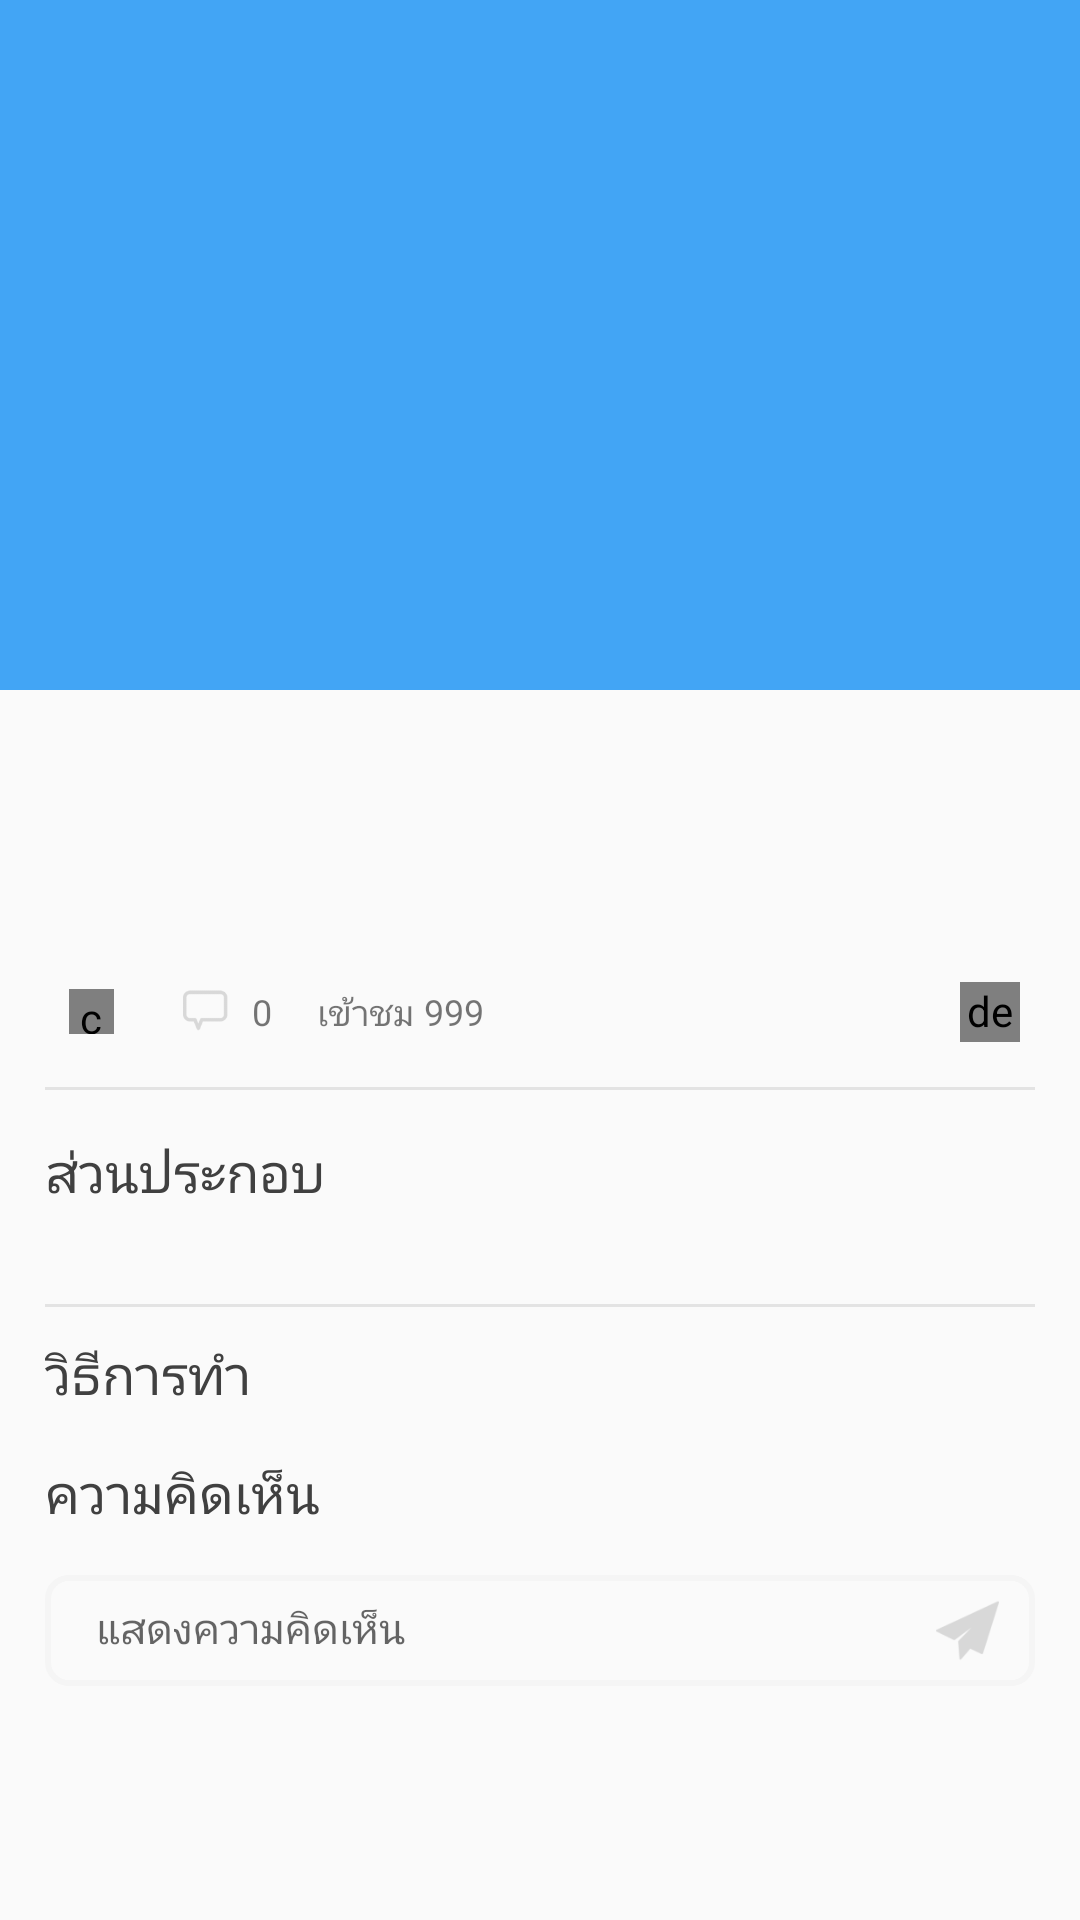

Screen size 1080×1920. Icon name, then its box in pixels as (x1, y1, x2, y2):
comments: (183, 991, 227, 1030)
send: (936, 1602, 999, 1659)
